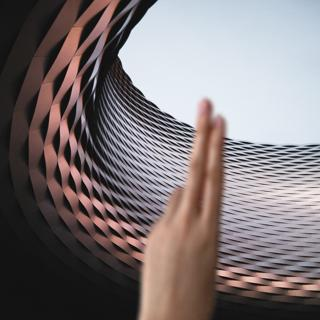DHAVE: (133, 90, 240, 320)
